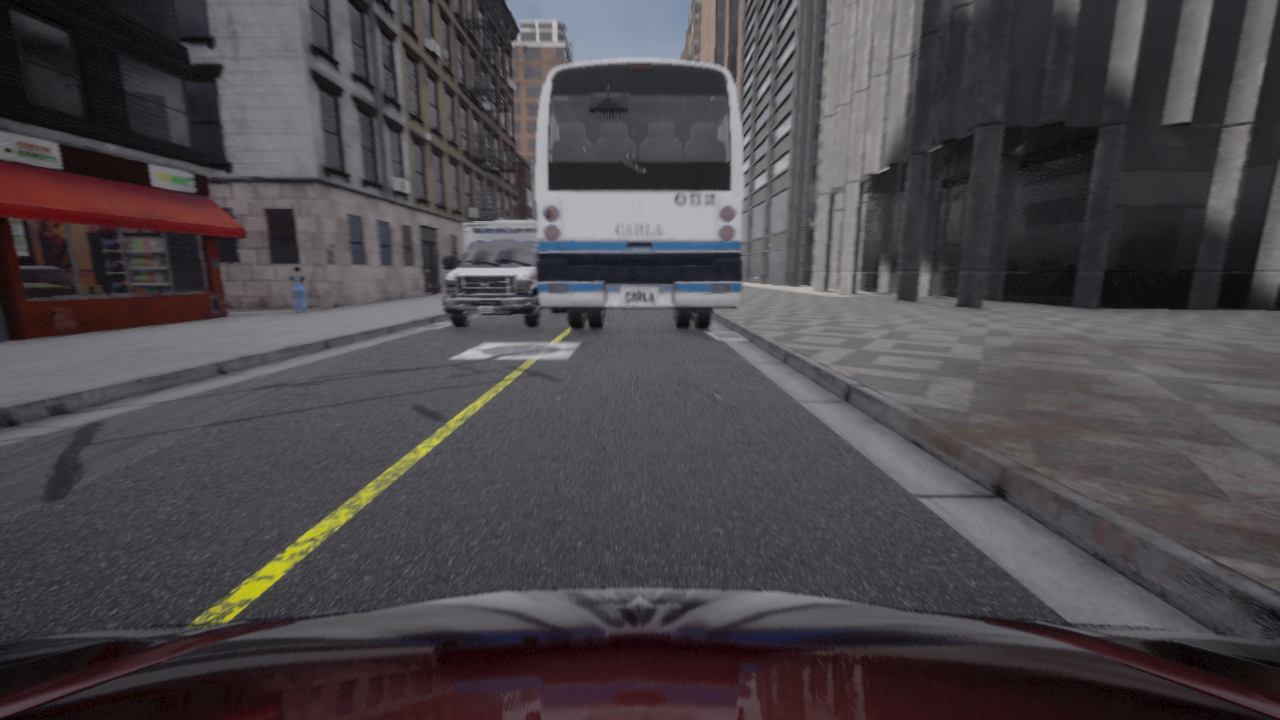cyclist: (0, 588, 1279, 719), (537, 58, 742, 329), (443, 222, 566, 327)
pedestrian: (290, 266, 308, 313)
